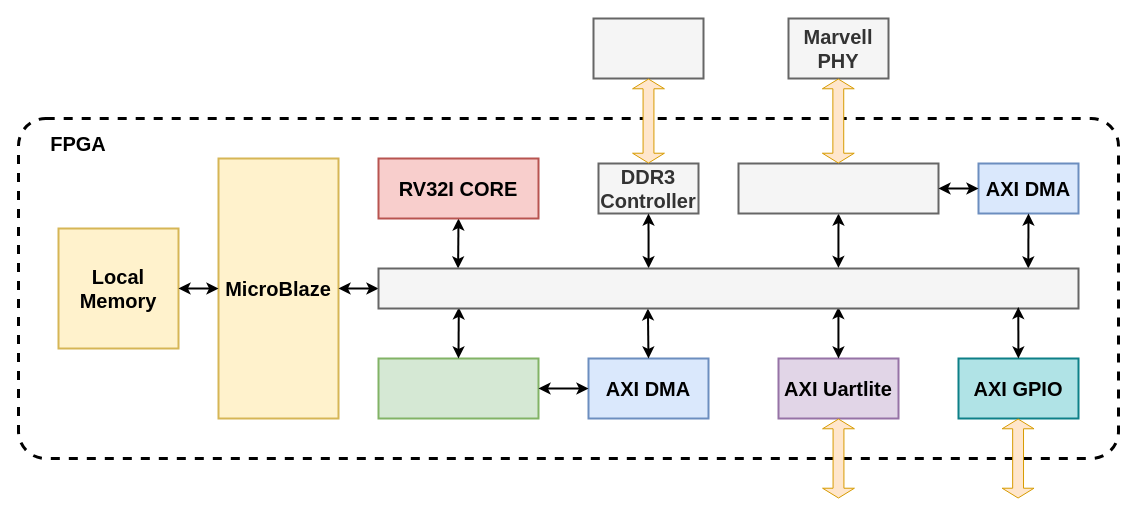
Some shapes in this 1137 by 515 pixel diagram are drawn without their labels. The shapes that lost their labels are listed below. From the top down, each one's box as (x1, y1, x2, y2) in pixels, then its label:
(592, 17, 704, 79): DDR3 SDRAM
(737, 162, 939, 214): AXI 1G/2.5G Ethernet Subsystem
(377, 267, 1079, 309): AXI SmartConnect
(377, 357, 539, 419): H264 Intra Encoder IP
